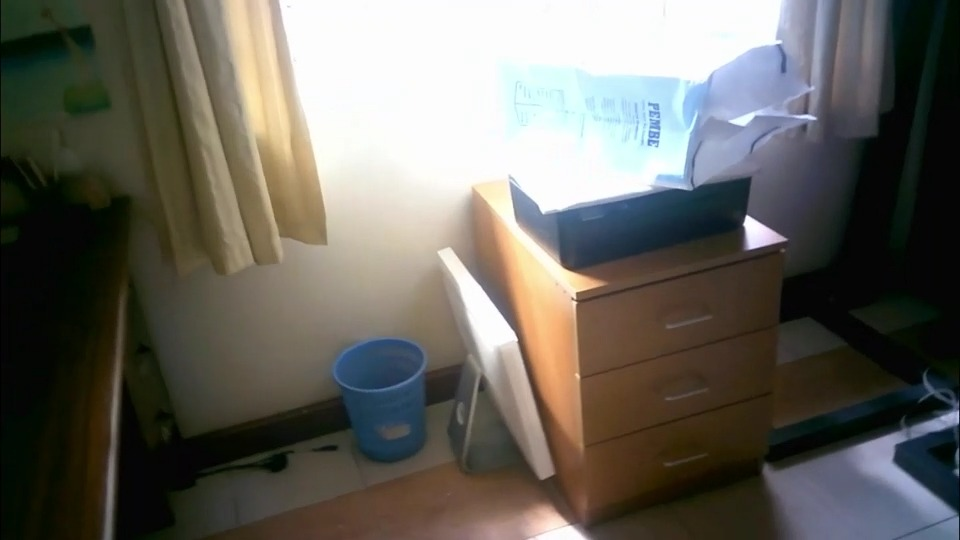wheat_flour_blue_label: (503, 26, 792, 179)
